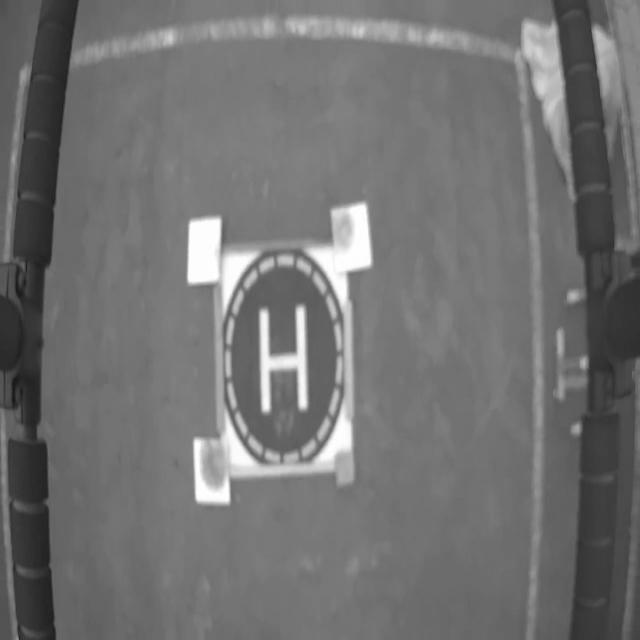Helipad: (258, 307, 310, 415)
